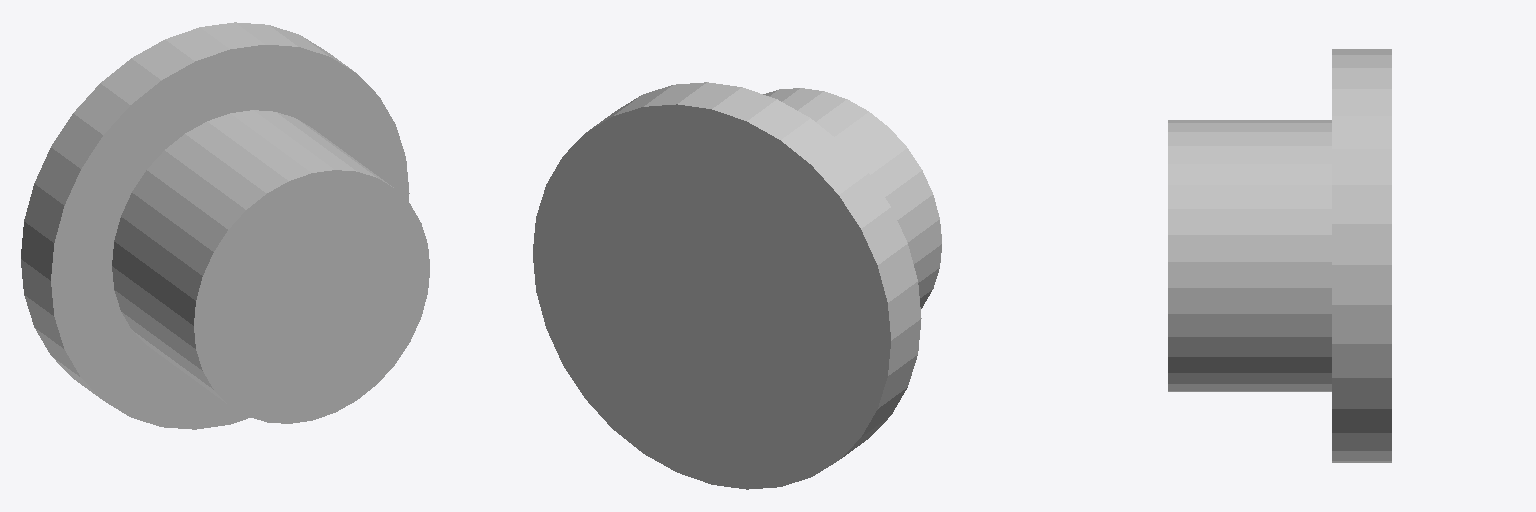
Rendered from button.obj.
3 renders of one model, left to right at view 1: azimuth 30°, elevation 25°; view 2: azimuth 150°, elevation 25°; view 3: azimuth 270°, elevation 25°, orthographic.
Visible parts, largest first — view 1: Cylinder; view 2: Cylinder; view 3: Cylinder.
Boxes of the visible parts, x1=… form: Cylinder: x1=21, y1=22, x2=429, y2=429; Cylinder: x1=533, y1=82, x2=941, y2=489; Cylinder: x1=1168, y1=49, x2=1391, y2=462.
Size of the model in its own units: 0.3272 by 0.3272 by 0.1772.